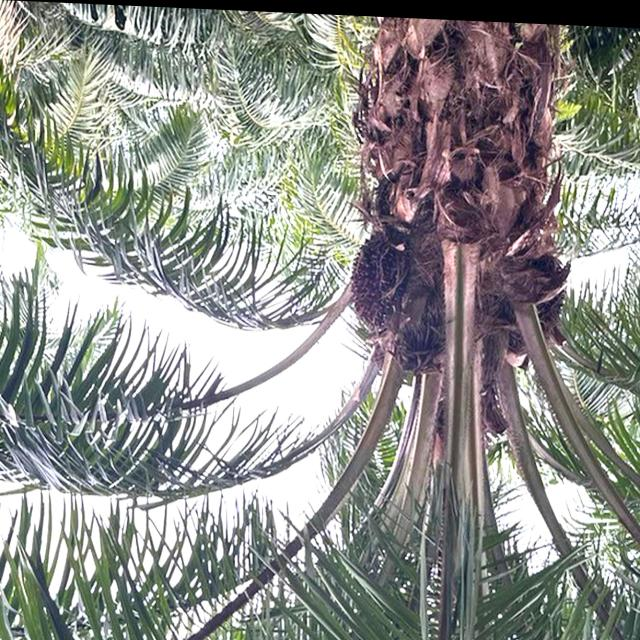ripe: (348, 235, 412, 341)
